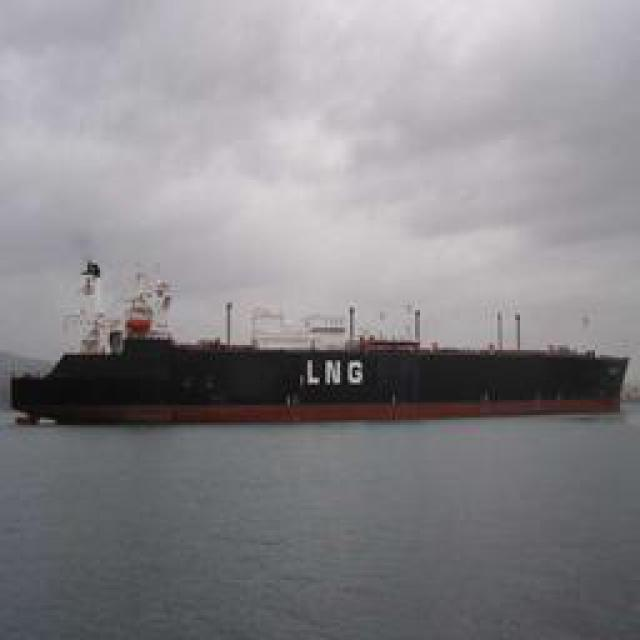Ship: (34, 340, 634, 420)
